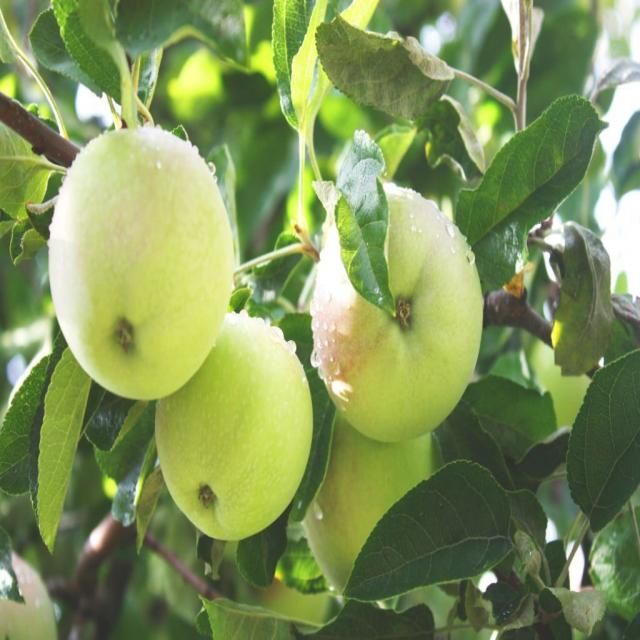Green Apple: (51, 121, 234, 400), (312, 183, 490, 439), (163, 304, 318, 536), (310, 399, 443, 582)
